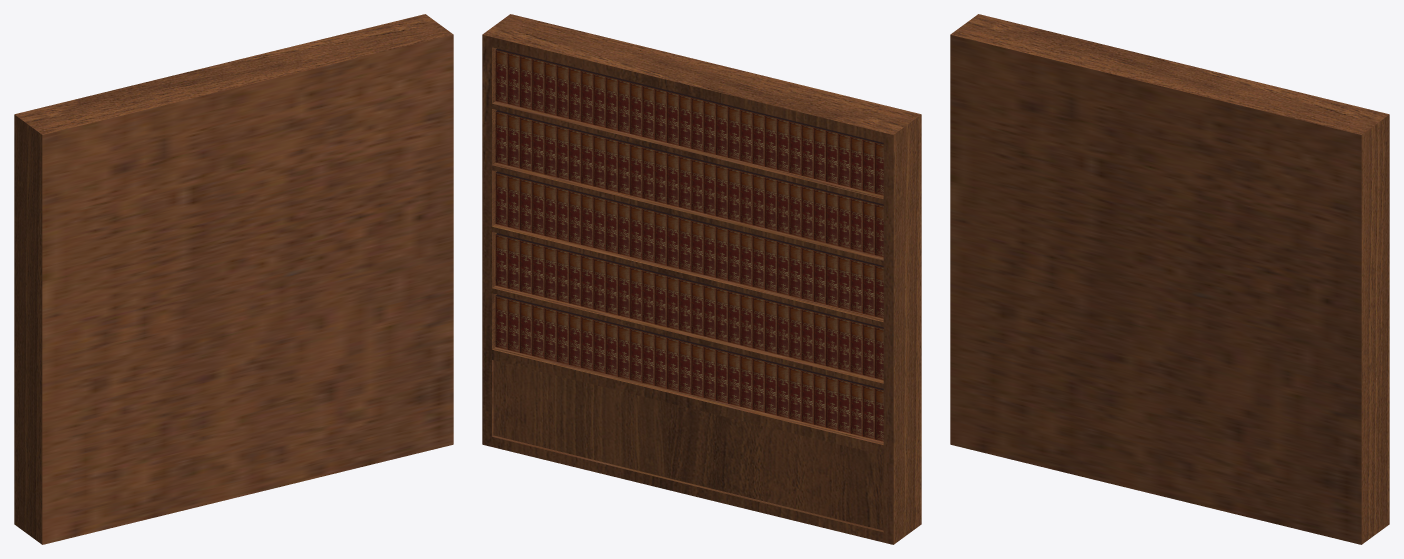
File: BookShelf.fbx
3 renders of one model, left to right at view 1: azimuth 30°, elevation 25°; view 2: azimuth 150°, elevation 25°; view 3: azimuth 330°, elevation 25°, orthographic.
Visible parts, largest first — view 1: Cube.001; view 2: Cube.002, Cube.001; view 3: Cube.001.
Part boxes in pixels (bbox=[...]): Cube.001: bbox=[14, 14, 453, 544]; Cube.002: bbox=[495, 48, 883, 441]; Cube.001: bbox=[482, 14, 921, 544]; Cube.001: bbox=[950, 14, 1389, 544].
Bounding box in the file's own units: 8.4 × 8 × 1.
3 materials, 2 textured.
